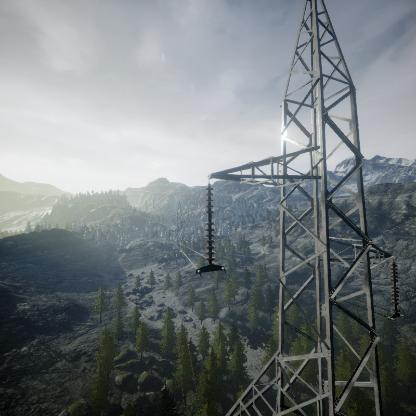insulator: (202, 183, 217, 263), (389, 262, 402, 315)
